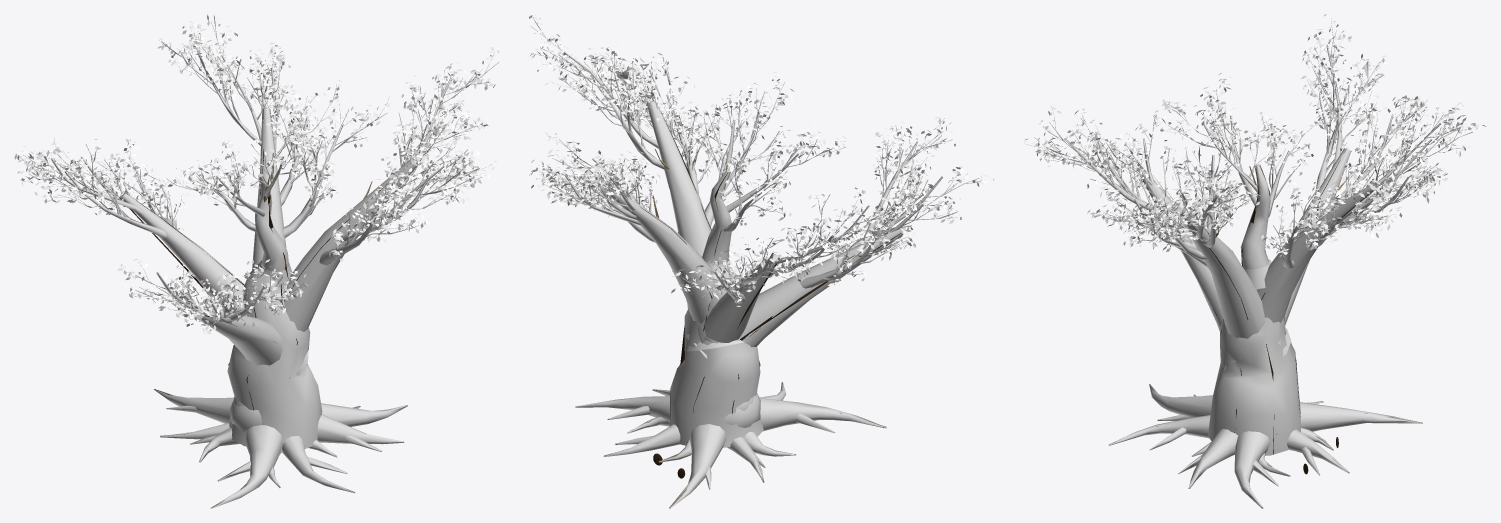
The model's file is ancient_tree_07_lod2.glb.
The picture shows the model from 3 angles, left to right: view 1: azimuth 30°, elevation 25°; view 2: azimuth 150°, elevation 25°; view 3: azimuth 270°, elevation 25°; orthographic projection.
Visible parts, largest first — view 1: AncientTreeWood_LOD2, AncientLeaves_LOD2, FineBranches_LOD2, DirectedBarkGrooves_LOD2; view 2: AncientTreeWood_LOD2, AncientLeaves_LOD2, FineBranches_LOD2, DirectedBarkGrooves_LOD2; view 3: AncientTreeWood_LOD2, AncientLeaves_LOD2, FineBranches_LOD2, DirectedBarkGrooves_LOD2.
Boxes of the visible parts, <box> form: AncientTreeWood_LOD2: <box>21,21,498,508</box>; AncientLeaves_LOD2: <box>14,14,498,333</box>; FineBranches_LOD2: <box>16,15,494,330</box>; DirectedBarkGrooves_LOD2: <box>119,108,410,410</box>; AncientTreeWood_LOD2: <box>531,26,979,508</box>; AncientLeaves_LOD2: <box>529,14,994,306</box>; FineBranches_LOD2: <box>530,17,984,302</box>; DirectedBarkGrooves_LOD2: <box>611,104,901,425</box>; AncientTreeWood_LOD2: <box>1034,30,1472,508</box>; AncientLeaves_LOD2: <box>1023,14,1486,256</box>; FineBranches_LOD2: <box>1025,18,1475,256</box>; DirectedBarkGrooves_LOD2: <box>1143,148,1372,454</box>.
Bounding box in the file's own units: 23.69 × 19.79 × 22.05.
